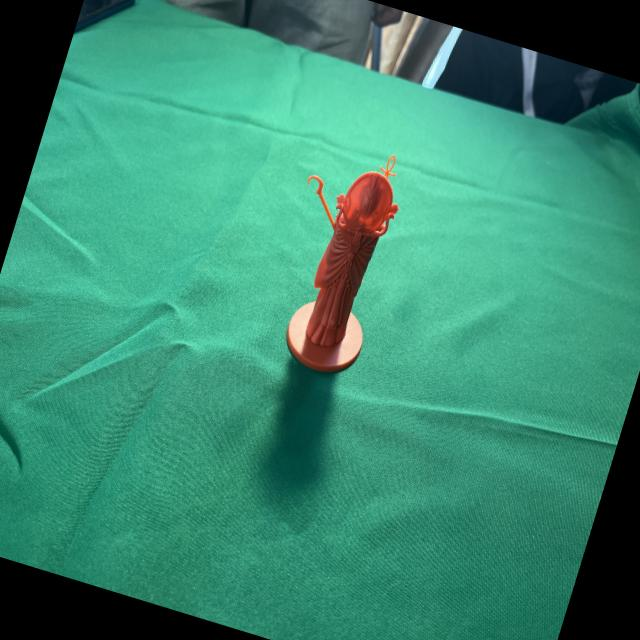amon: (252, 128, 424, 387)
